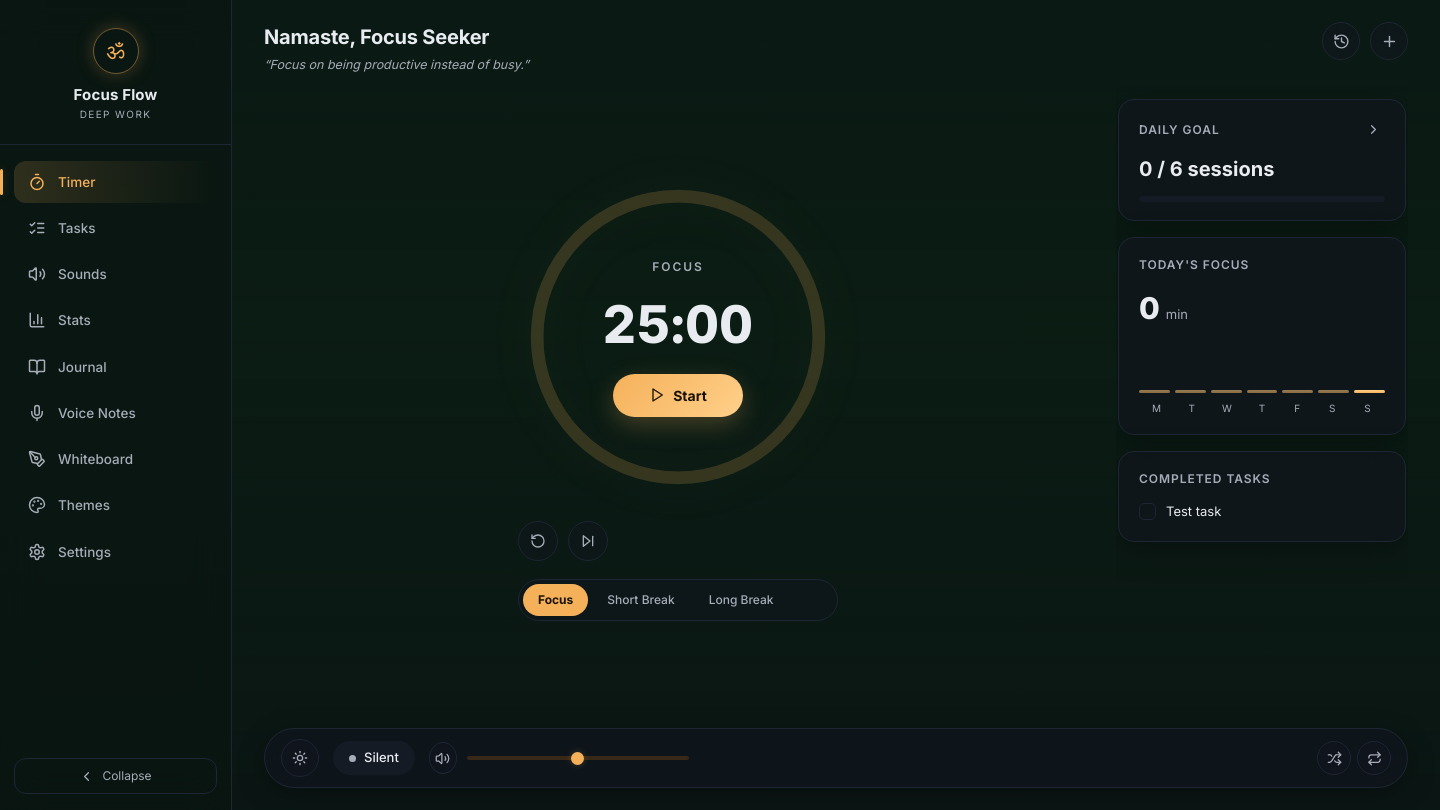
FocusFlow Home Page › switches to the Voice Notes view
Click the button "Voice Notes": (116, 413) top-left (14, 392), bottom-right (217, 434)
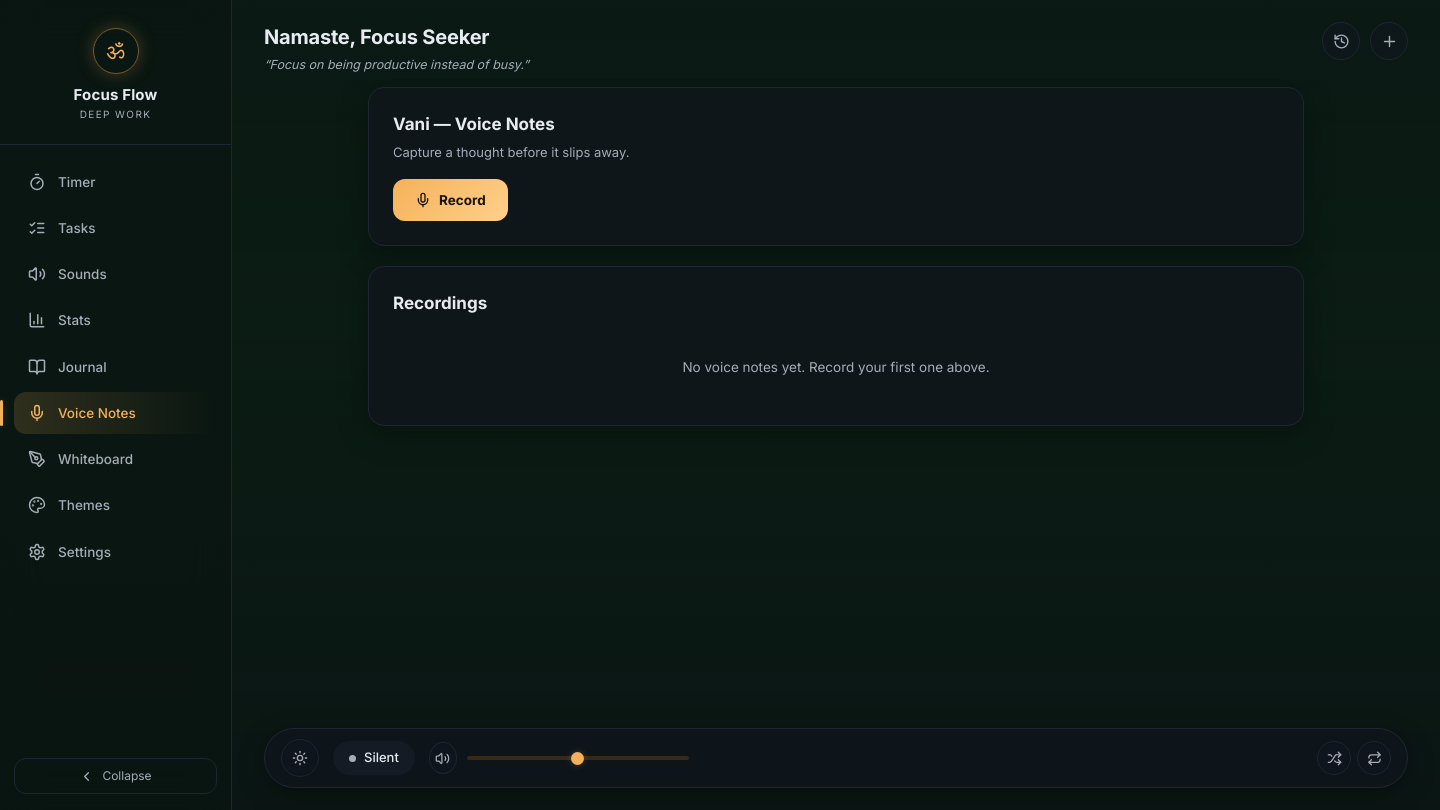
Now the heading "Vani — Voice Notes" is shown, box top-left (393, 114), bottom-right (555, 134)
